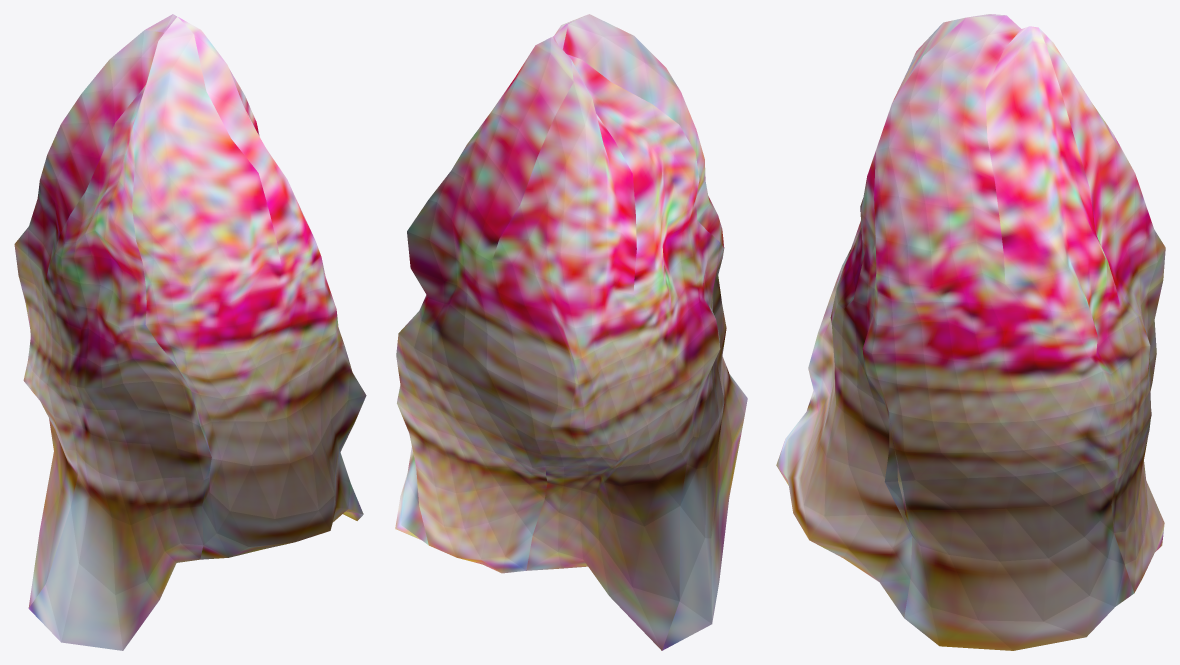
The model's file is chocolate_vanilla_and_strawberry_ice_cream.gltf.
3 renders of one model, left to right at view 1: azimuth 30°, elevation 25°; view 2: azimuth 150°, elevation 25°; view 3: azimuth 270°, elevation 25°, orthographic. The views are drawn at different scales.
Parts seen in each view (by area): view 1: pMesh1; view 2: pMesh1; view 3: pMesh1.
Part boxes in pixels (left/top/right/bottom): pMesh1: left=14, top=14, right=366, bottom=650; pMesh1: left=395, top=14, right=747, bottom=650; pMesh1: left=776, top=14, right=1165, bottom=650.
Size of the model in its own units: 2.21 by 4.41 by 2.5.
1 material, 1 textured.
